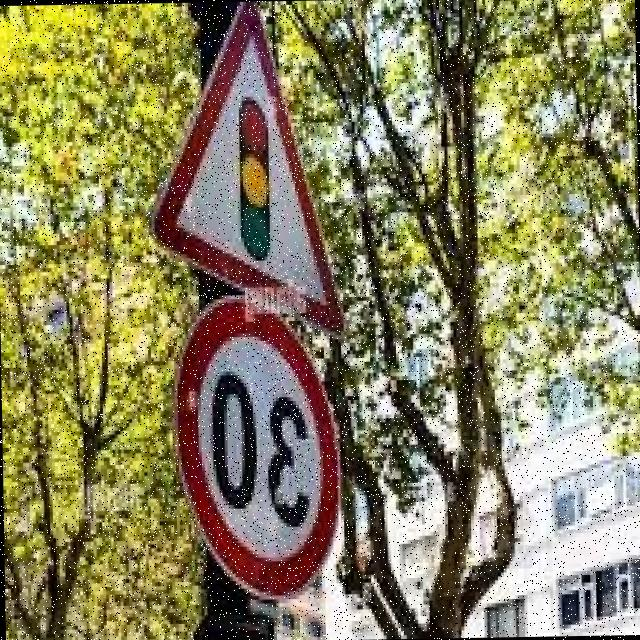light_traffic: (132, 0, 351, 323)
speed_limit_30: (136, 302, 368, 610)
